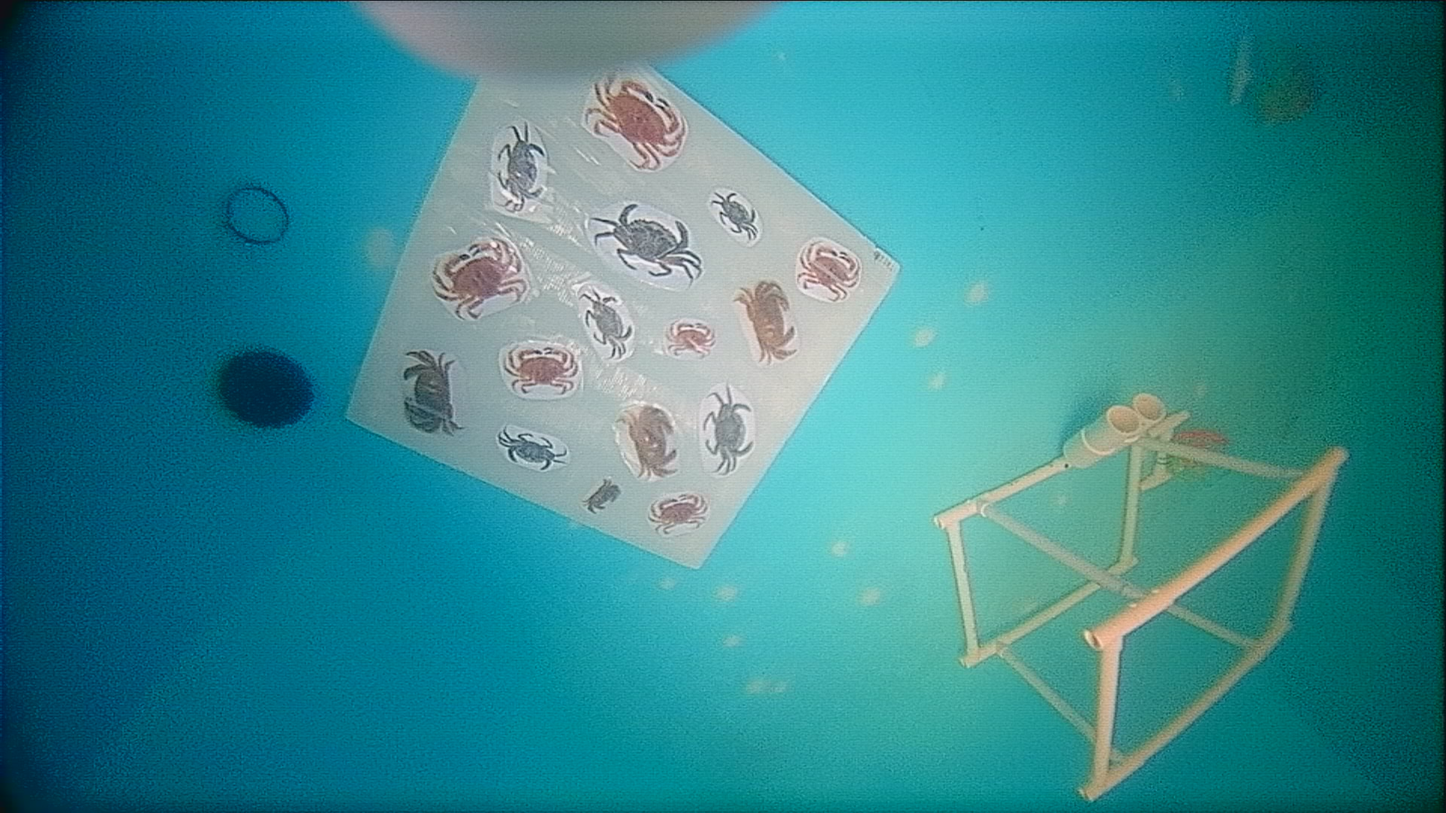GreenCrab: (589, 204, 701, 282), (496, 123, 545, 211), (703, 385, 752, 473), (581, 289, 632, 358), (496, 425, 569, 471), (711, 192, 755, 237)
